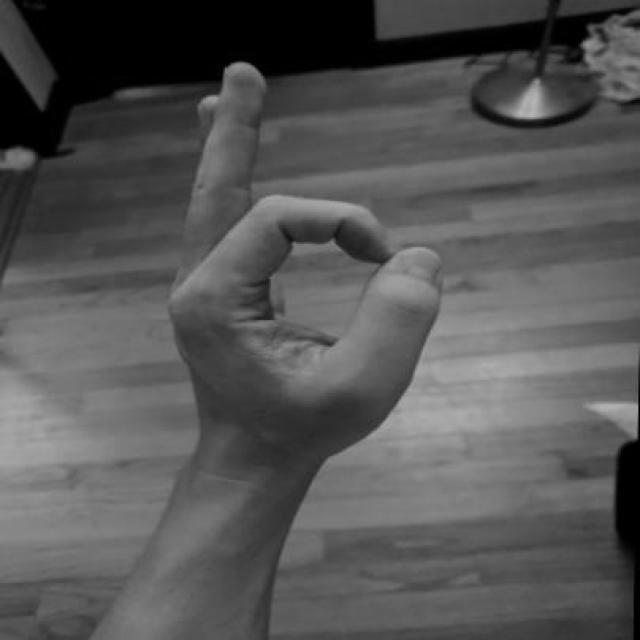F: (157, 56, 455, 468)
